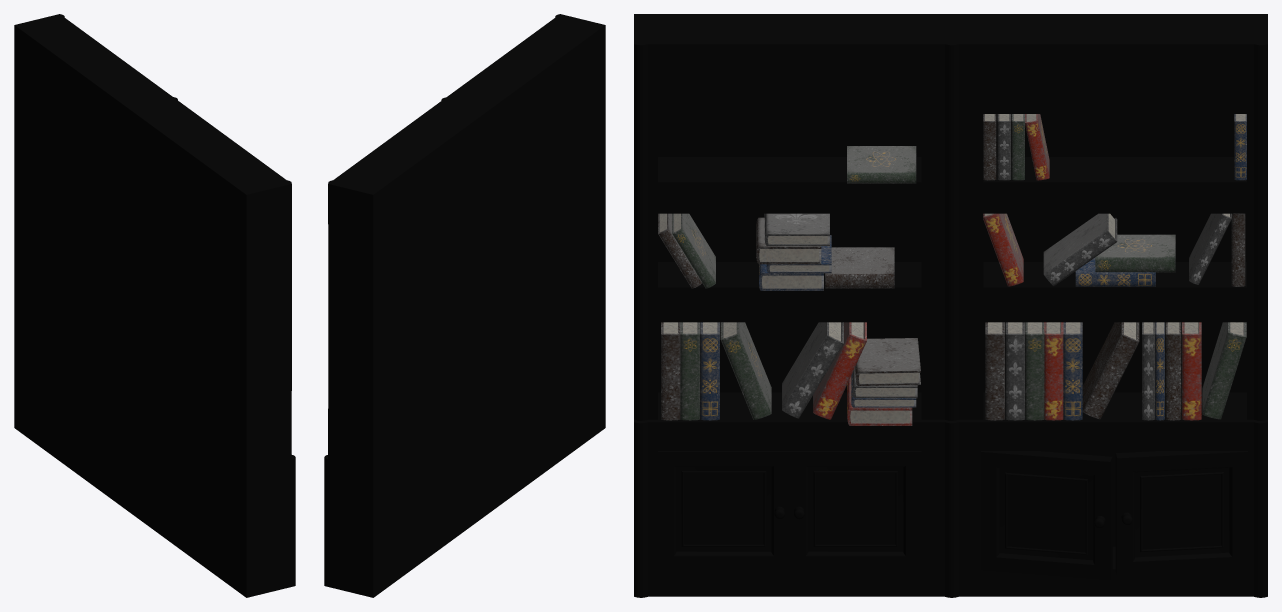
Rendered from Bookshelf.fbx.
3 renders of one model, left to right at view 1: azimuth 30°, elevation 25°; view 2: azimuth 150°, elevation 25°; view 3: azimuth 270°, elevation 25°, orthographic. The views are drawn at different scales.
Parts seen in each view (by area): view 1: group5_polySurface124; view 2: group5_polySurface124; view 3: group5_polySurface124.
Boxes of the visible parts, x1,y1,x2,y2 form: group5_polySurface124: [14, 14, 295, 597]; group5_polySurface124: [324, 14, 605, 597]; group5_polySurface124: [634, 14, 1267, 597].
Bounding box in the file's own units: 0.2412 × 1.3 × 1.36.
2 materials, 1 textured.
